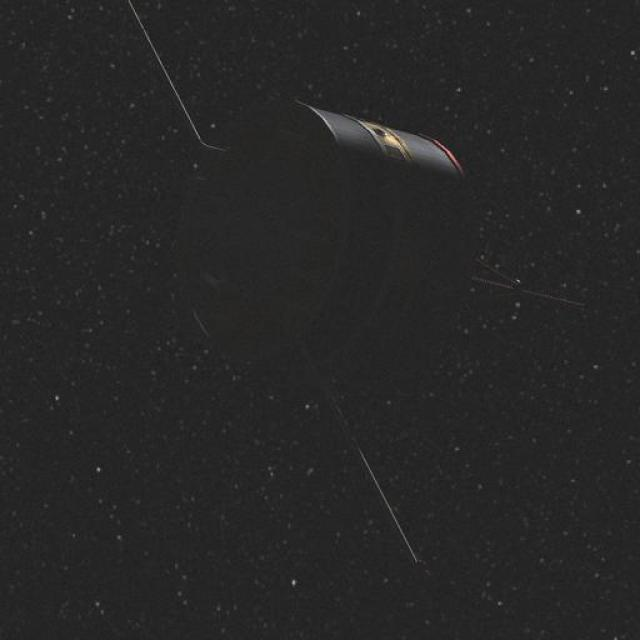double_start: (165, 105, 562, 402)
